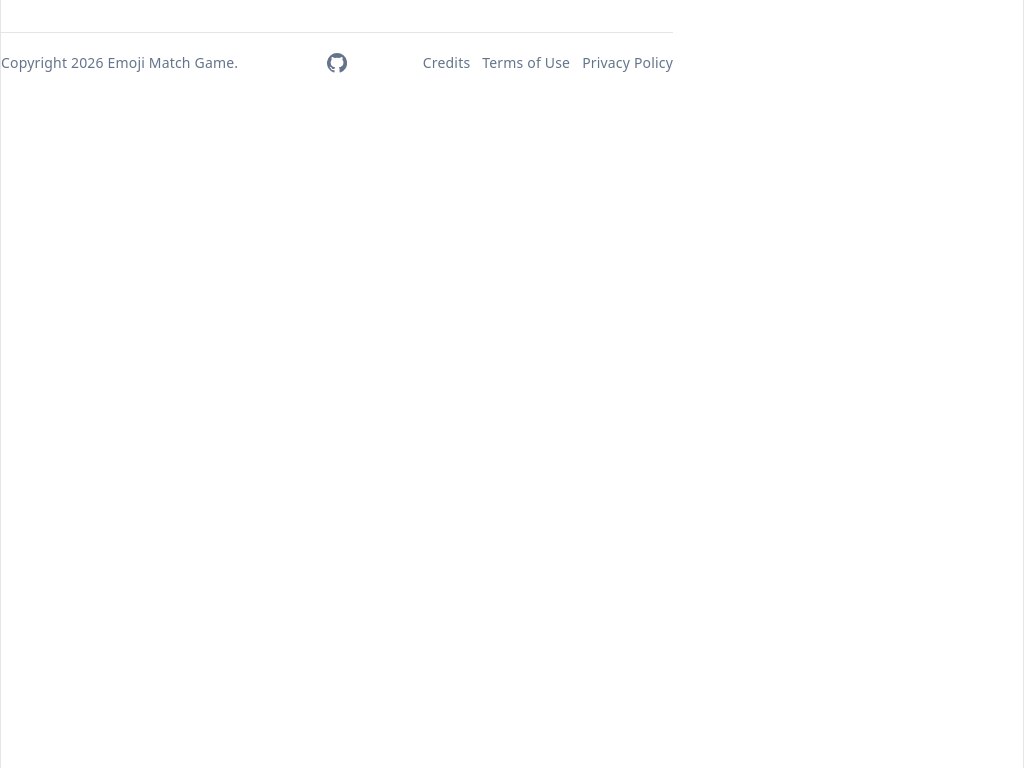
Scenario: Footer › opens the matching modal for each legal link
The image size is (1024, 768).
Click the button "Credits": [447, 63] box [423, 53, 470, 73]
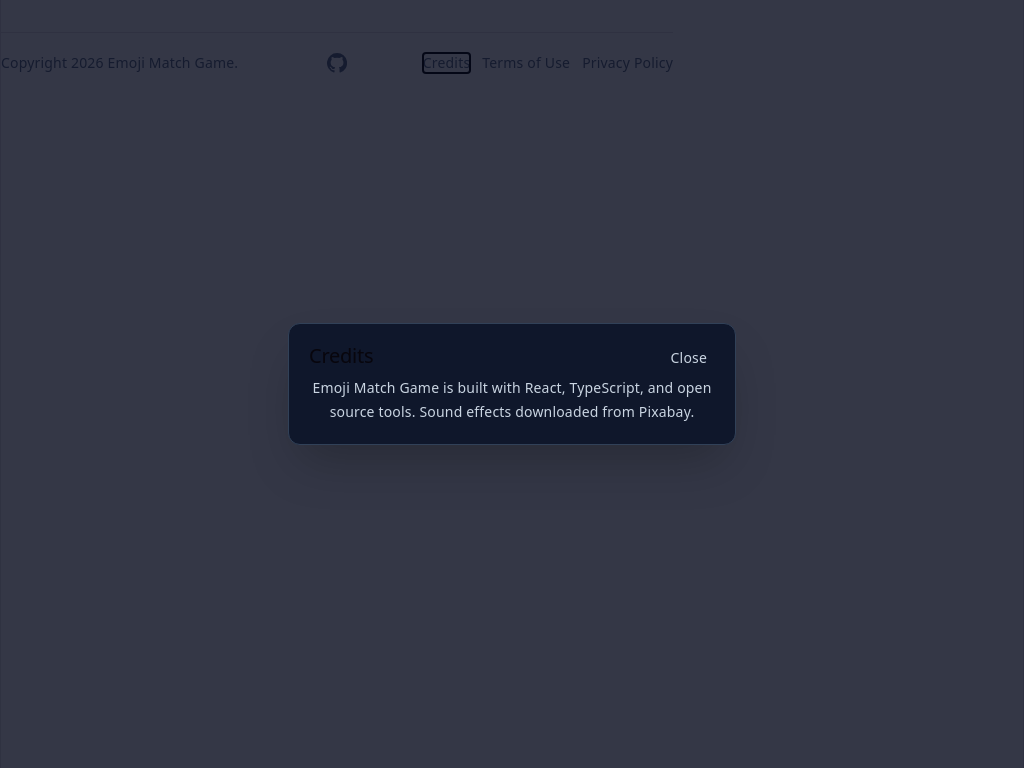
Expected: the dialog "Credits" is shown, [288, 323, 736, 445]
Click the button with aria-label "Close modal": [689, 358] box [663, 344, 715, 372]
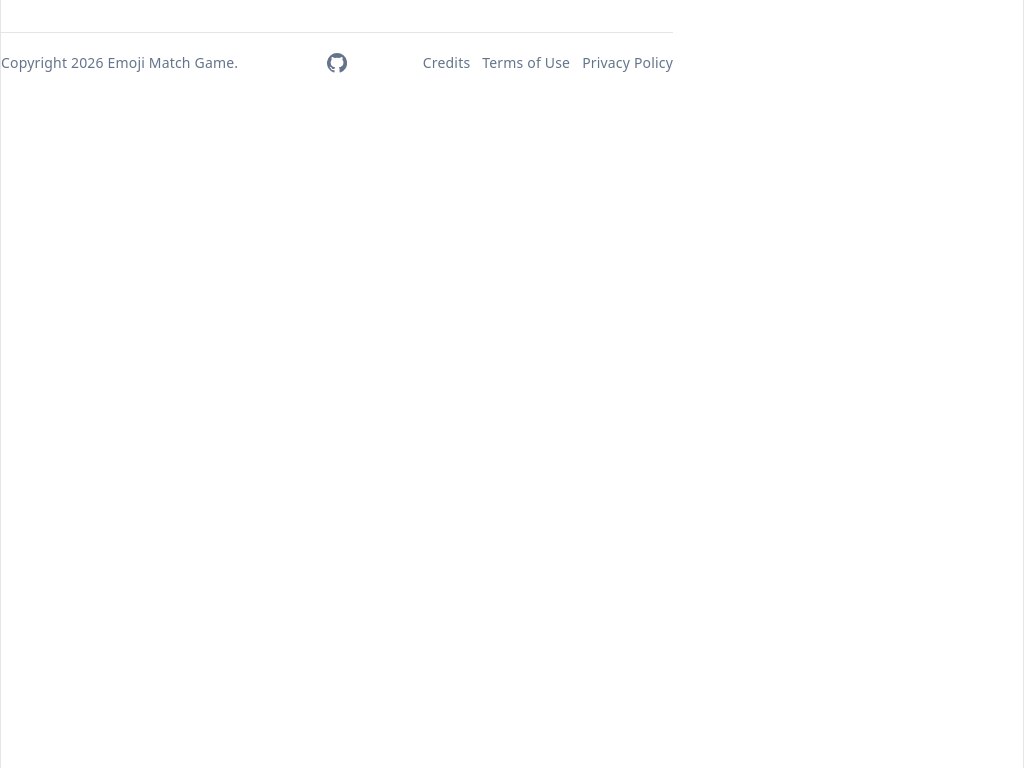
Click the button "Terms of Use": [526, 63] box [482, 53, 570, 73]
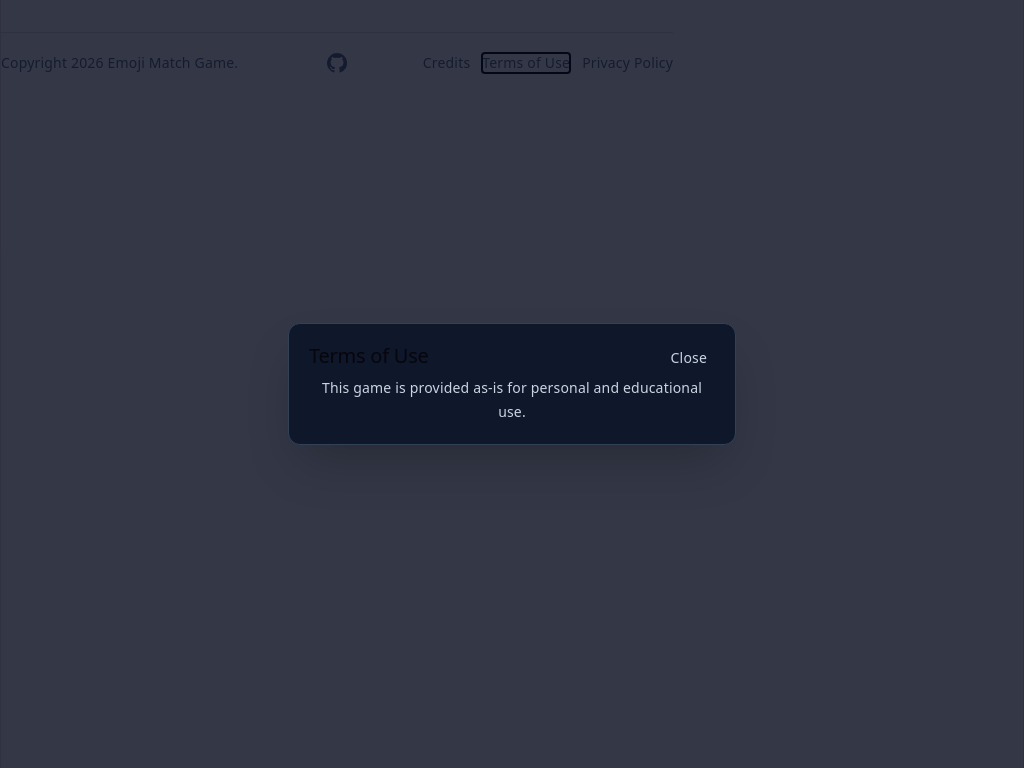
Expected: the dialog "Terms of Use" is shown, [288, 323, 736, 445]
Click the button with aria-label "Close modal": [689, 358] box [663, 344, 715, 372]
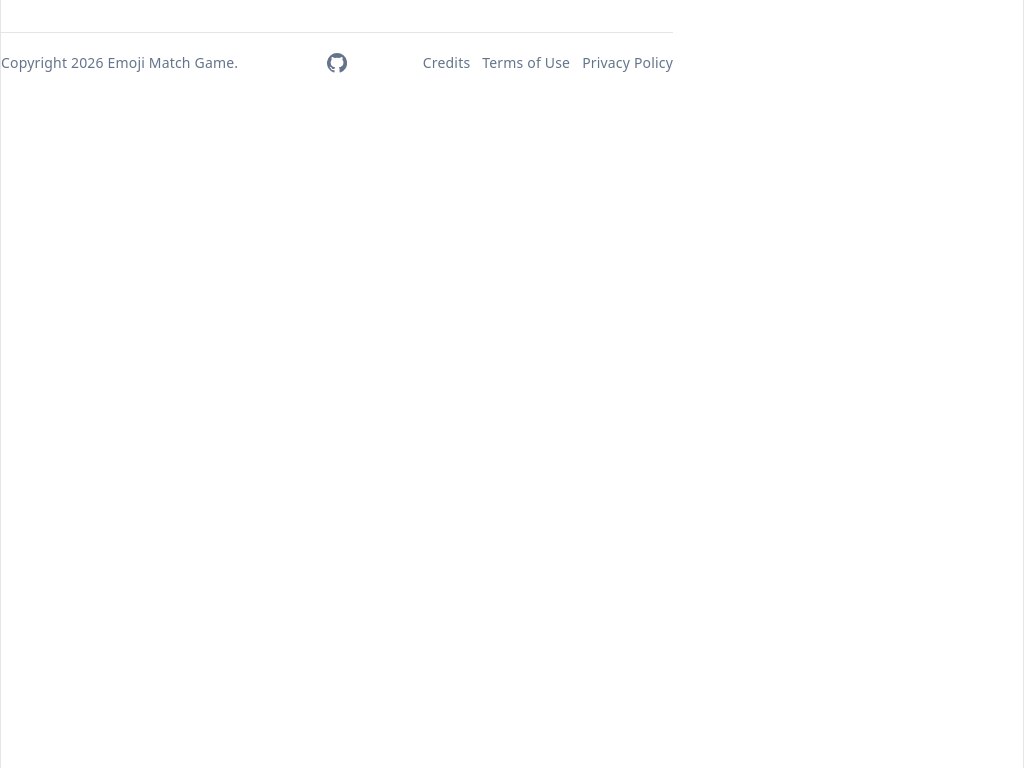
Click the button "Privacy Policy": [628, 63] box [582, 53, 673, 73]
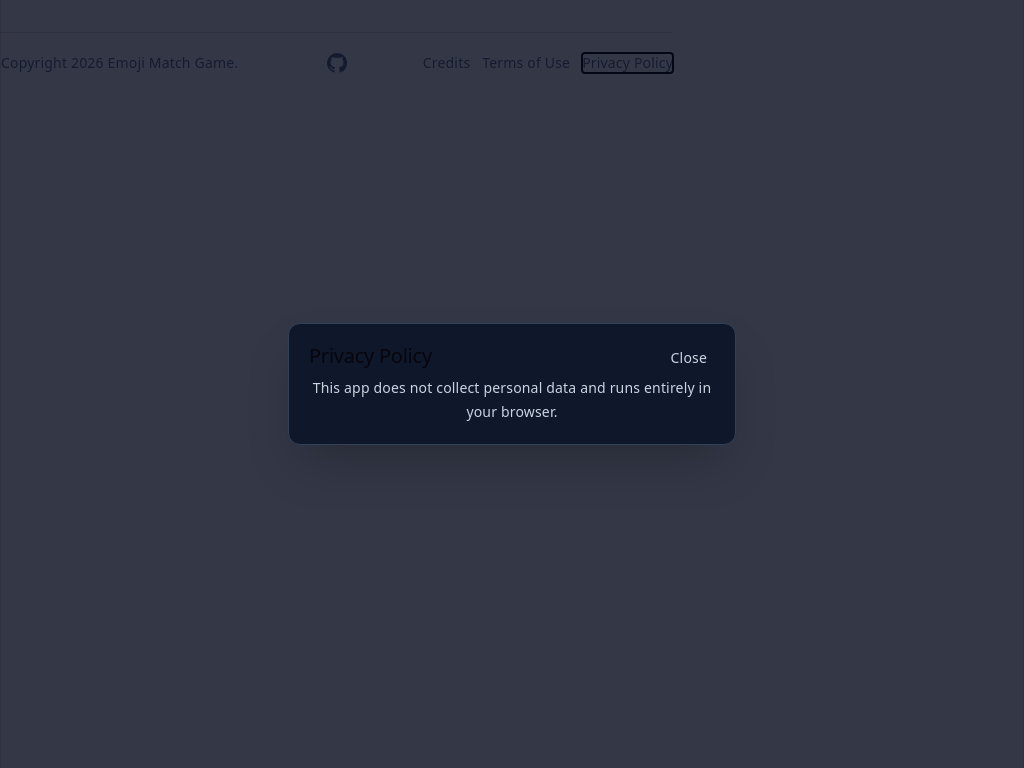
Expected: the dialog "Privacy Policy" is shown, [288, 323, 736, 445]
